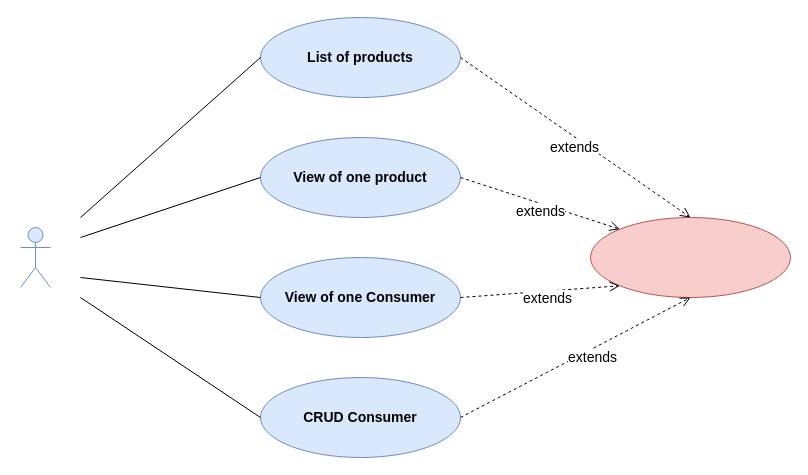
This 808x475 diagram has some shape labels left out. The box of each missing label's shape, as (x1, y1, x2, y2) in pixels:
Authentification JWT: (590, 216, 790, 298)
Client: (20, 226, 50, 288)
